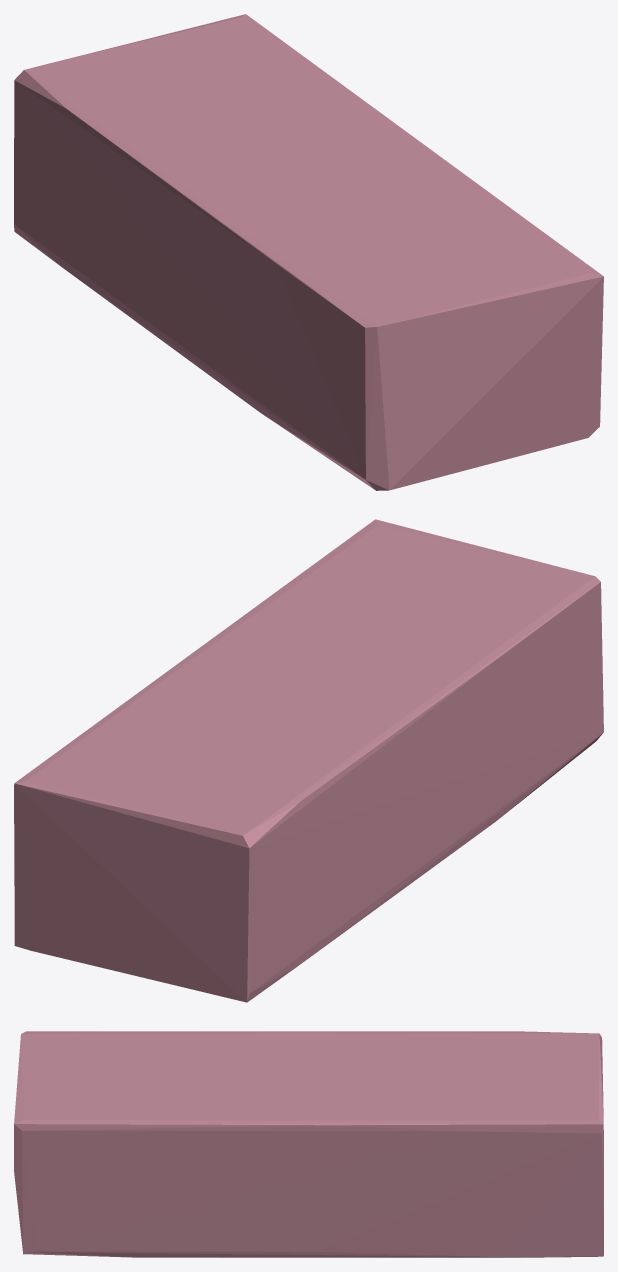
The model's file is shelve_steel_heavyDuty_a06.glb.
3 renders of one model, top to bottom at view 1: azimuth 30°, elevation 25°; view 2: azimuth 150°, elevation 25°; view 3: azimuth 270°, elevation 25°, orthographic. The views are drawn at different scales.
Parts seen in each view (by area): view 1: geometry_0; view 2: geometry_0; view 3: geometry_0.
Boxes of the visible parts, x1,y1,x2,y2 form: geometry_0: (14,14,603,490); geometry_0: (14,519,603,1002); geometry_0: (14,1031,603,1257).
Size of the model in its own units: 0.181 by 0.121 by 0.48.
